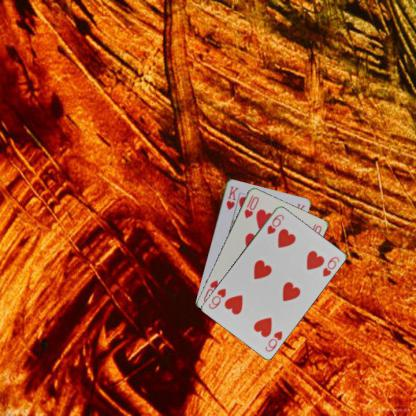10h: (242, 194, 260, 220)
6h: (262, 328, 284, 353), (264, 212, 286, 235)
Kh: (224, 183, 239, 211)
